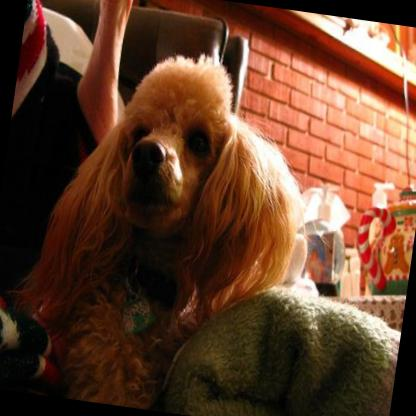toy_poodle: (0, 28, 323, 416)
